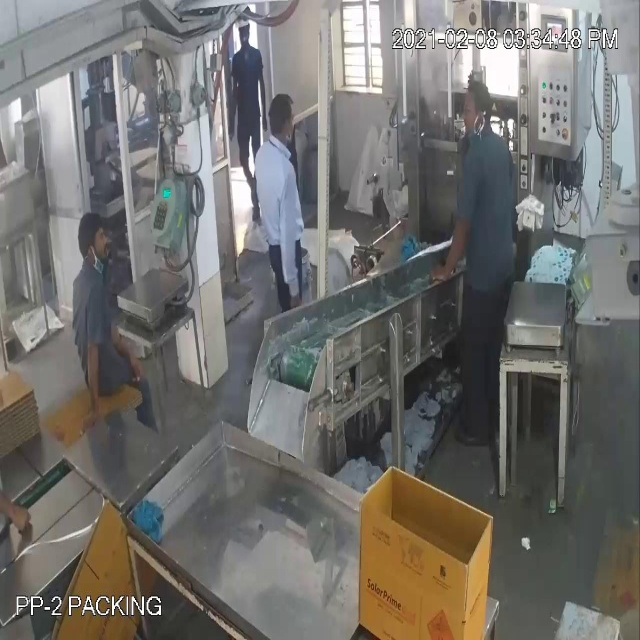Sin_guantes: (419, 174, 476, 287), (79, 318, 117, 453), (0, 445, 42, 542), (278, 183, 308, 317), (104, 300, 139, 391), (255, 54, 275, 141)
